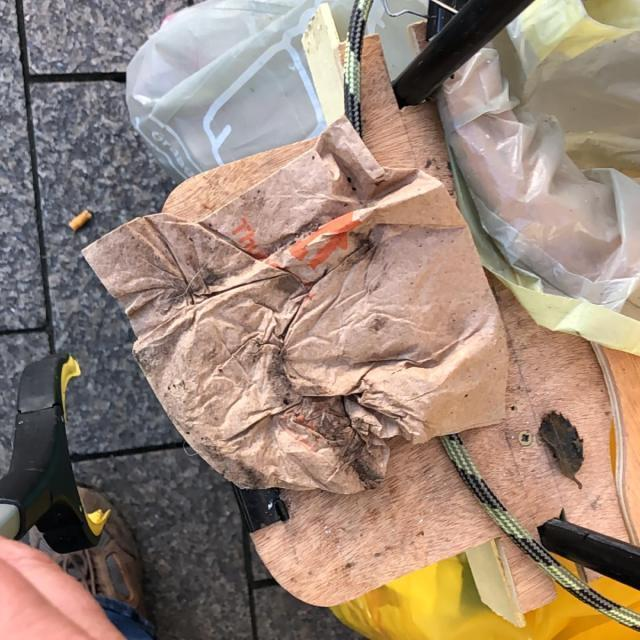Paper: (74, 112, 514, 497)
